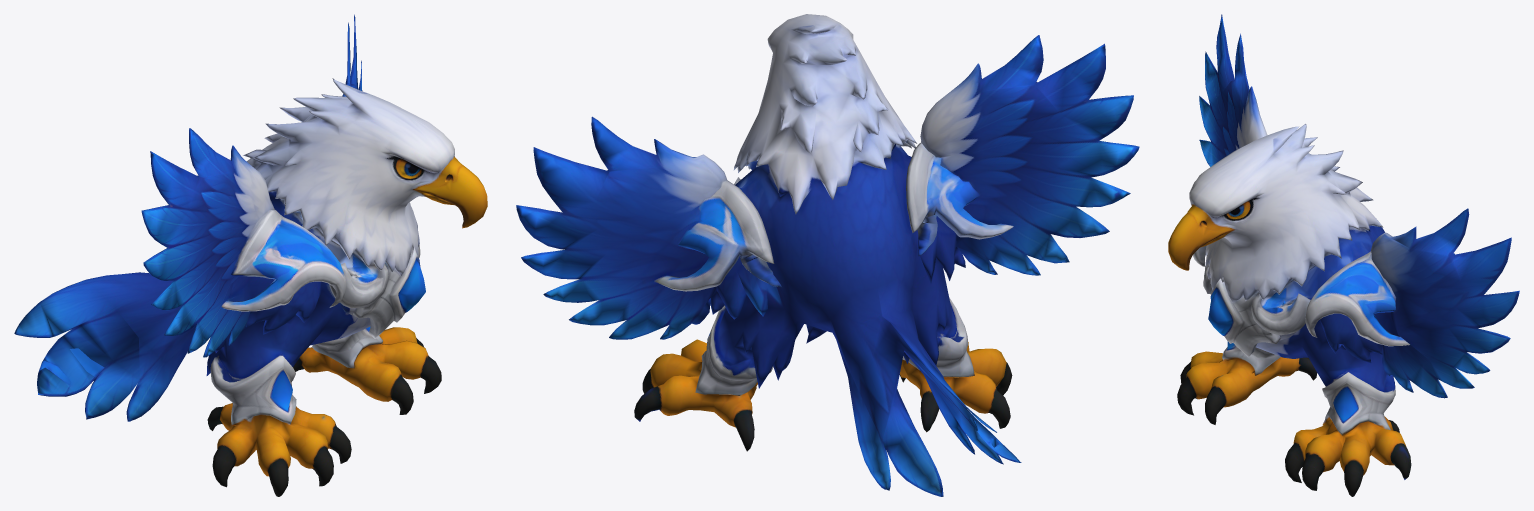
Rendered from ravenclaw-5.glb.
The picture shows the model from 3 angles, left to right: view 1: azimuth 30°, elevation 25°; view 2: azimuth 150°, elevation 25°; view 3: azimuth 270°, elevation 25°; orthographic projection. The views are drawn at different scales.
Visible parts, largest first — view 1: tripo_node_0b4b645f-4dc1-4229-a4f4-11737fc4c500; view 2: tripo_node_0b4b645f-4dc1-4229-a4f4-11737fc4c500; view 3: tripo_node_0b4b645f-4dc1-4229-a4f4-11737fc4c500.
Boxes of the visible parts, x1,y1,x2,y2 form: tripo_node_0b4b645f-4dc1-4229-a4f4-11737fc4c500: (14, 14, 487, 496); tripo_node_0b4b645f-4dc1-4229-a4f4-11737fc4c500: (516, 14, 1139, 496); tripo_node_0b4b645f-4dc1-4229-a4f4-11737fc4c500: (1168, 14, 1519, 496).
Bounding box in the file's own units: 0.998 × 0.9004 × 0.8418.
1 material, 1 textured.
